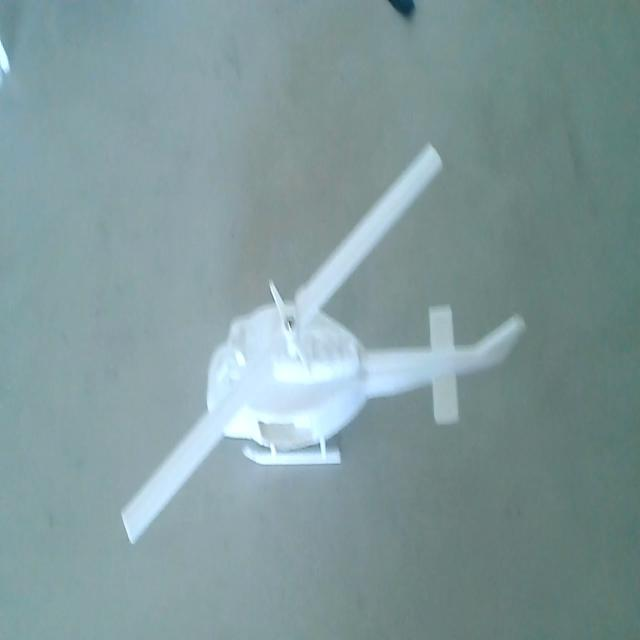Helicopter: (119, 141, 527, 565)
